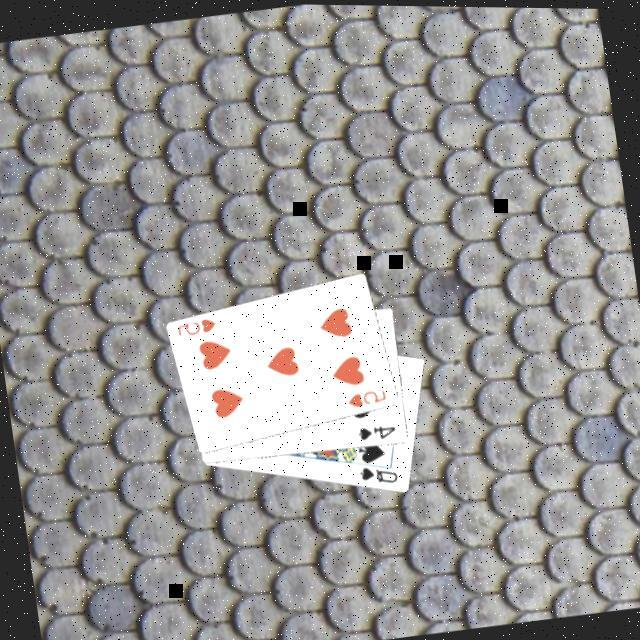4S: (357, 419, 403, 446)
5H: (347, 385, 393, 413), (176, 314, 223, 341)
QS: (358, 460, 404, 491)
